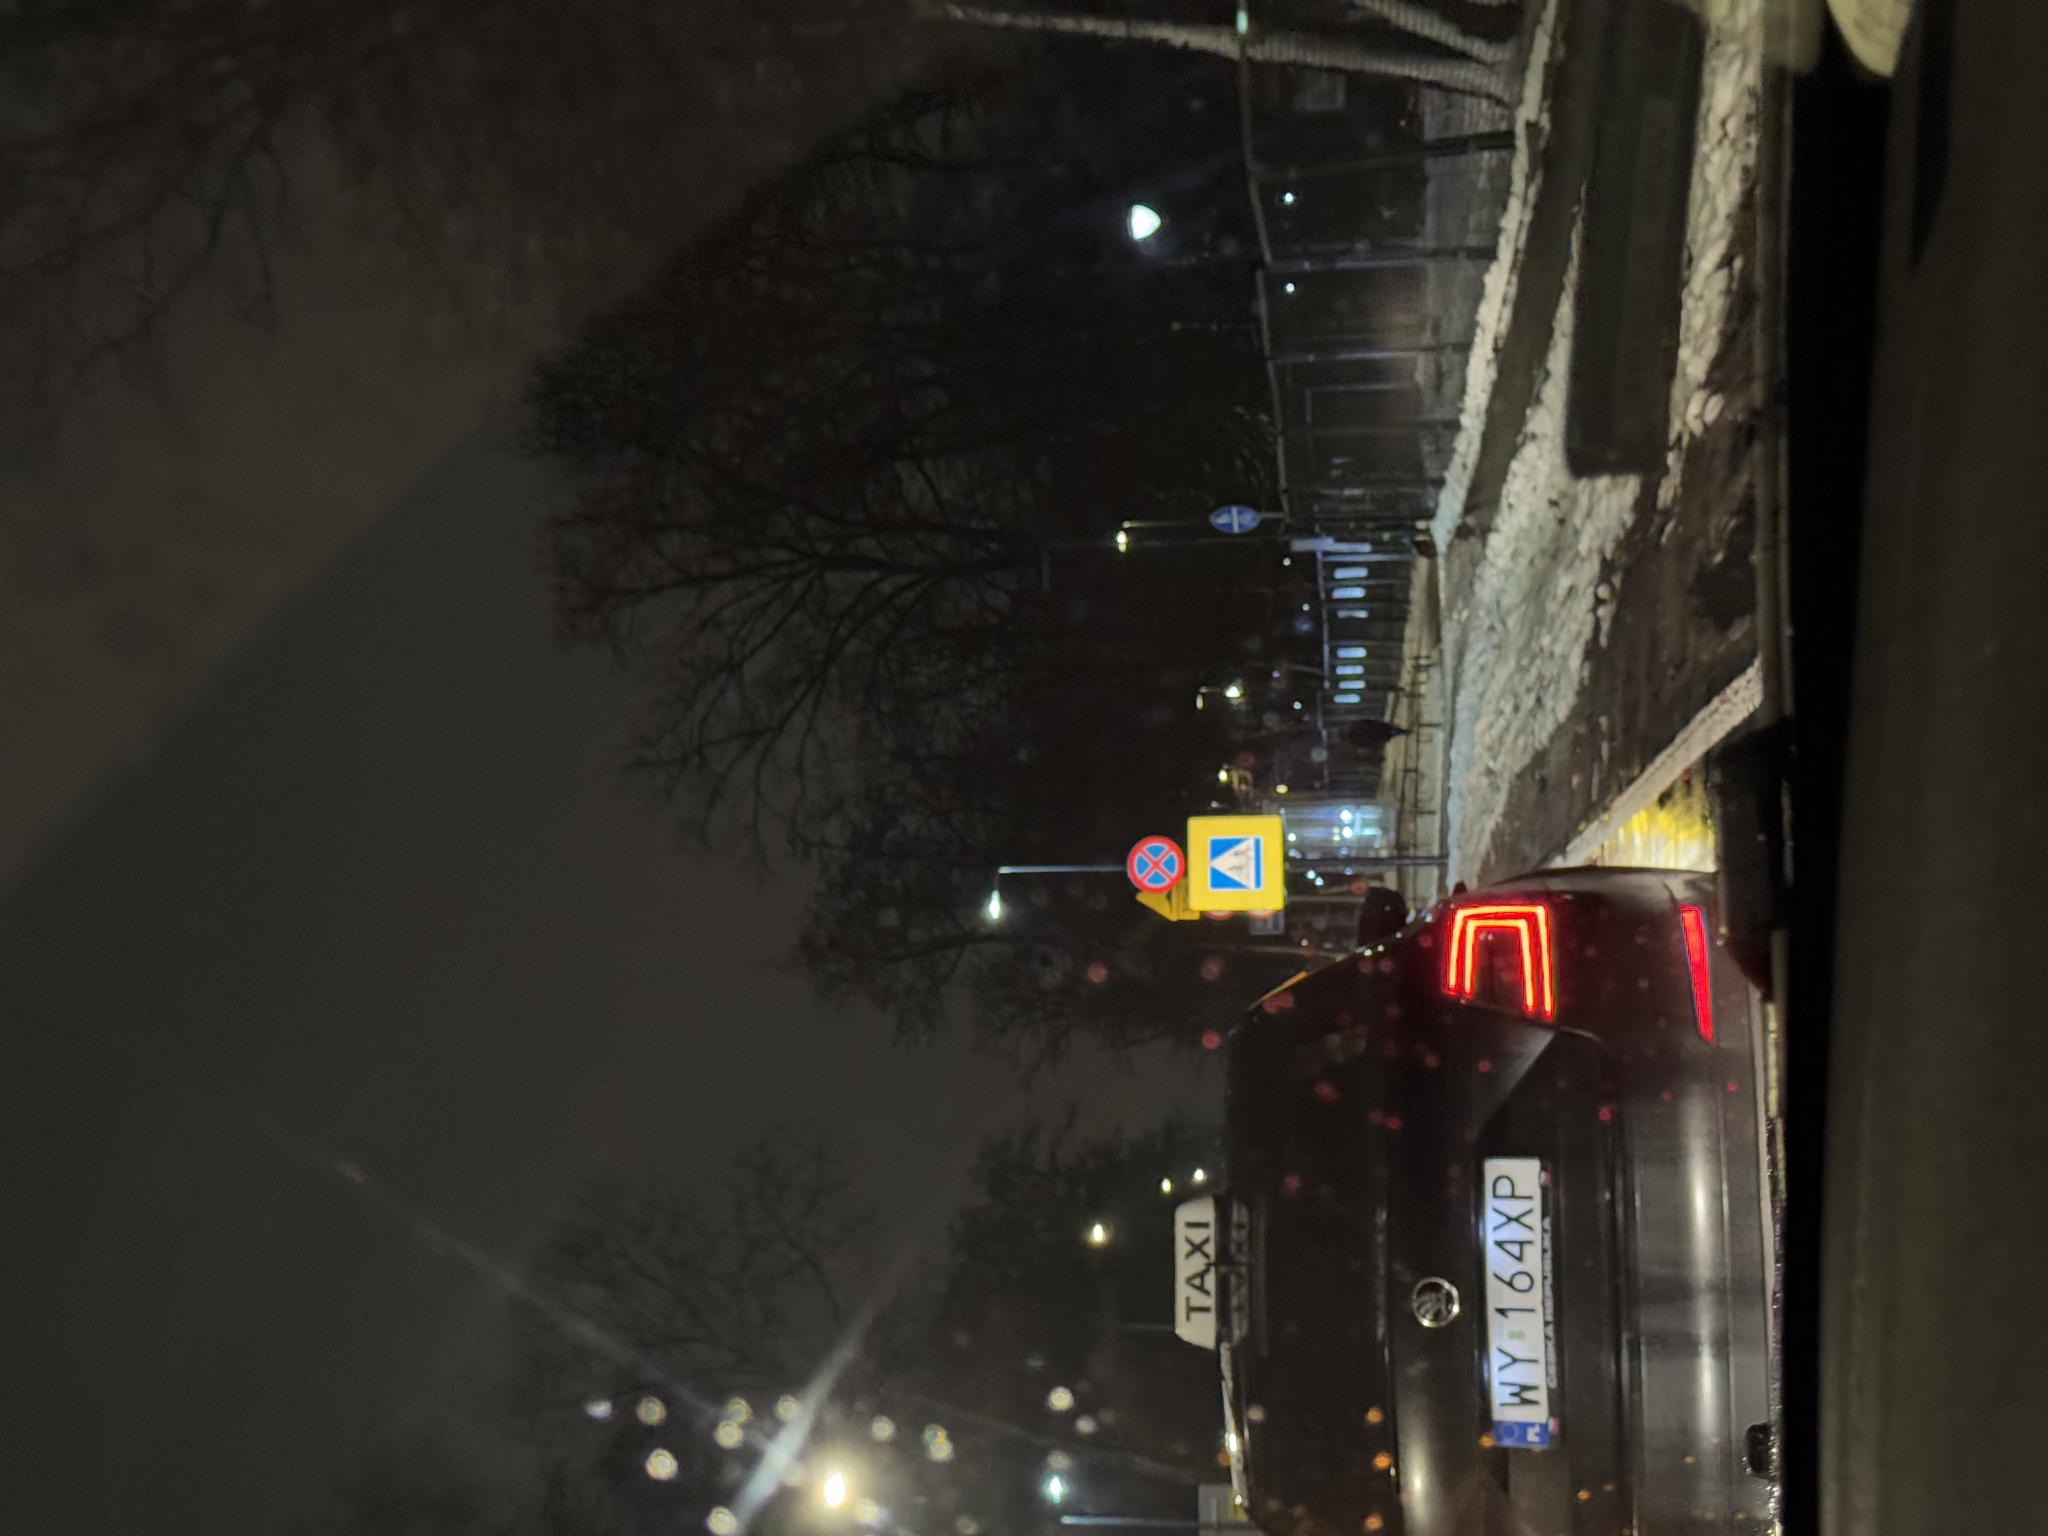information: (647, 1208, 700, 1262)
prohibitory: (642, 1125, 701, 1186)
warning: (614, 1134, 643, 1176)
